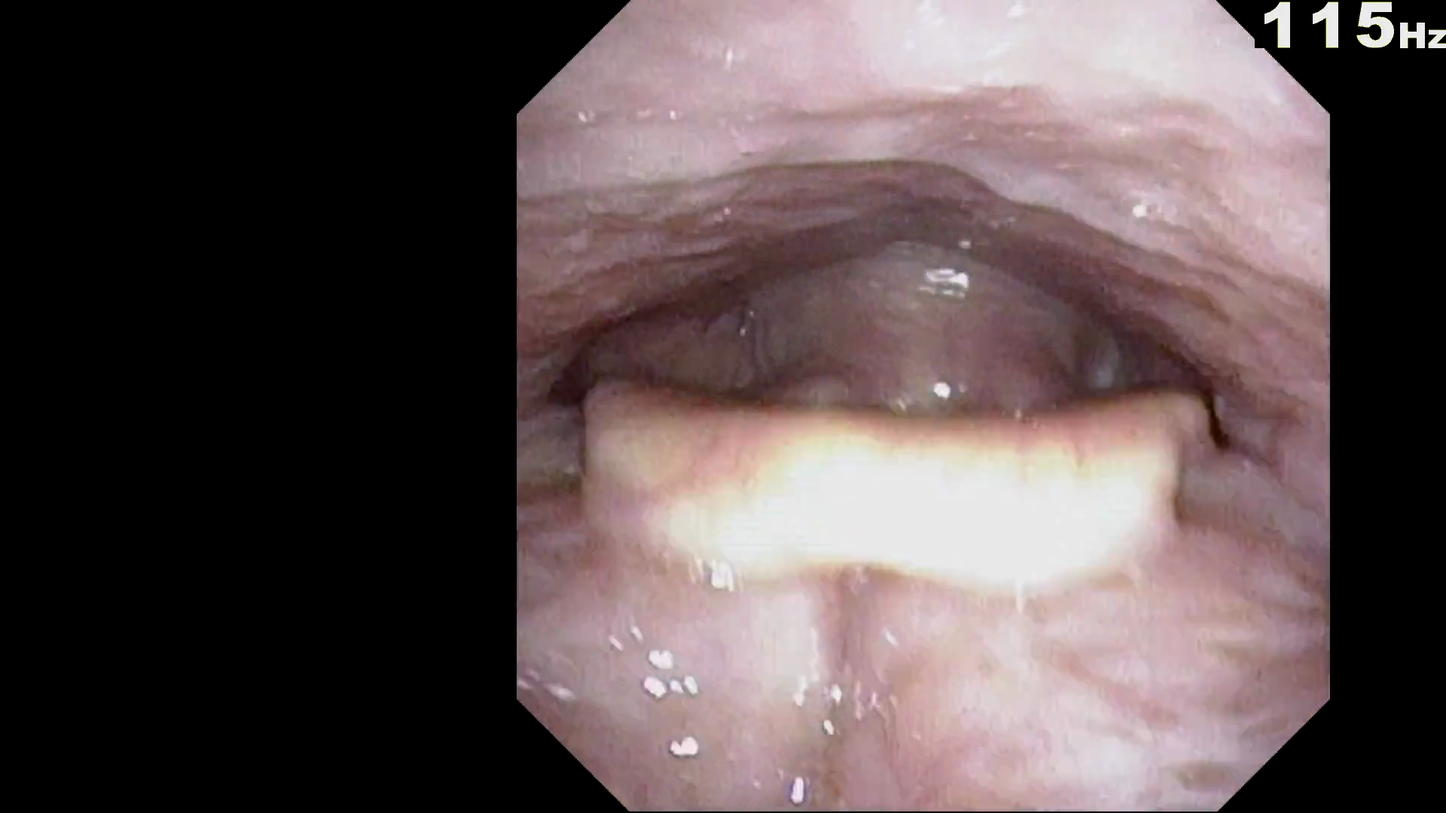epiglottis: (578, 332, 1236, 649)
trachea: (844, 350, 1015, 567)
